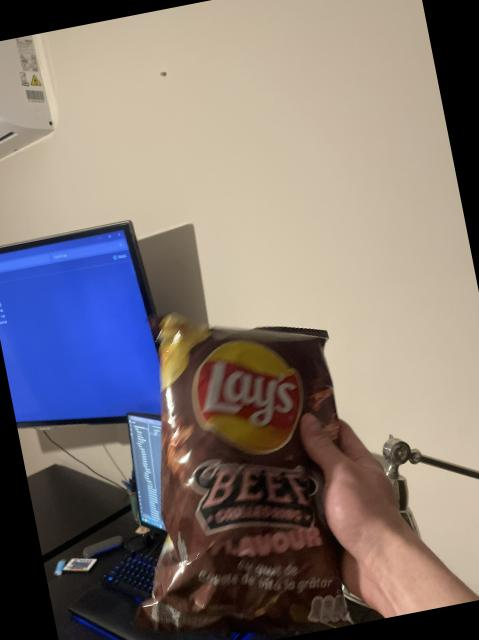Lays Beef Grilled Ribs 125g: (77, 283, 379, 640)
